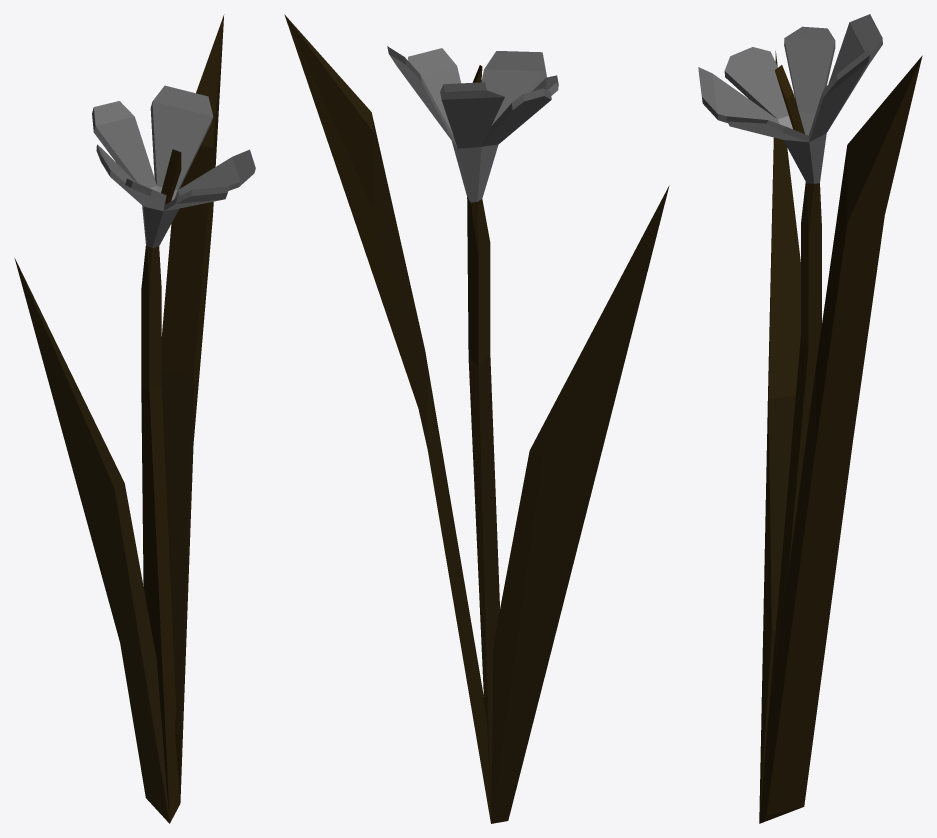
The model's file is flowerKrokus01.fbx.
3 renders of one model, left to right at view 1: azimuth 30°, elevation 25°; view 2: azimuth 150°, elevation 25°; view 3: azimuth 270°, elevation 25°, orthographic. The views are drawn at different scales.
Visible parts, largest first — view 1: Cylinder; view 2: Cylinder; view 3: Cylinder.
Part boxes in pixels (box(x1,y1,x2,y2)): Cylinder: box(14, 14, 255, 823); Cylinder: box(284, 14, 669, 823); Cylinder: box(698, 14, 922, 823).
Size of the model in its own units: 0.1987 by 0.5046 by 0.1222.
